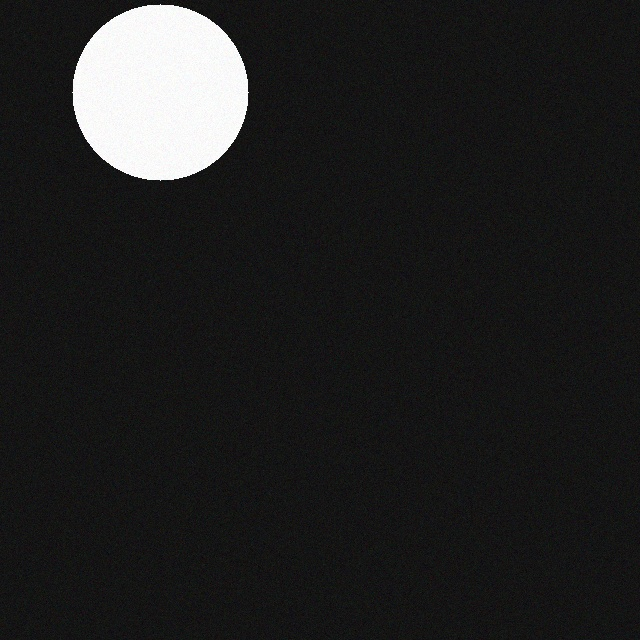circle: (72, 6, 248, 182)
